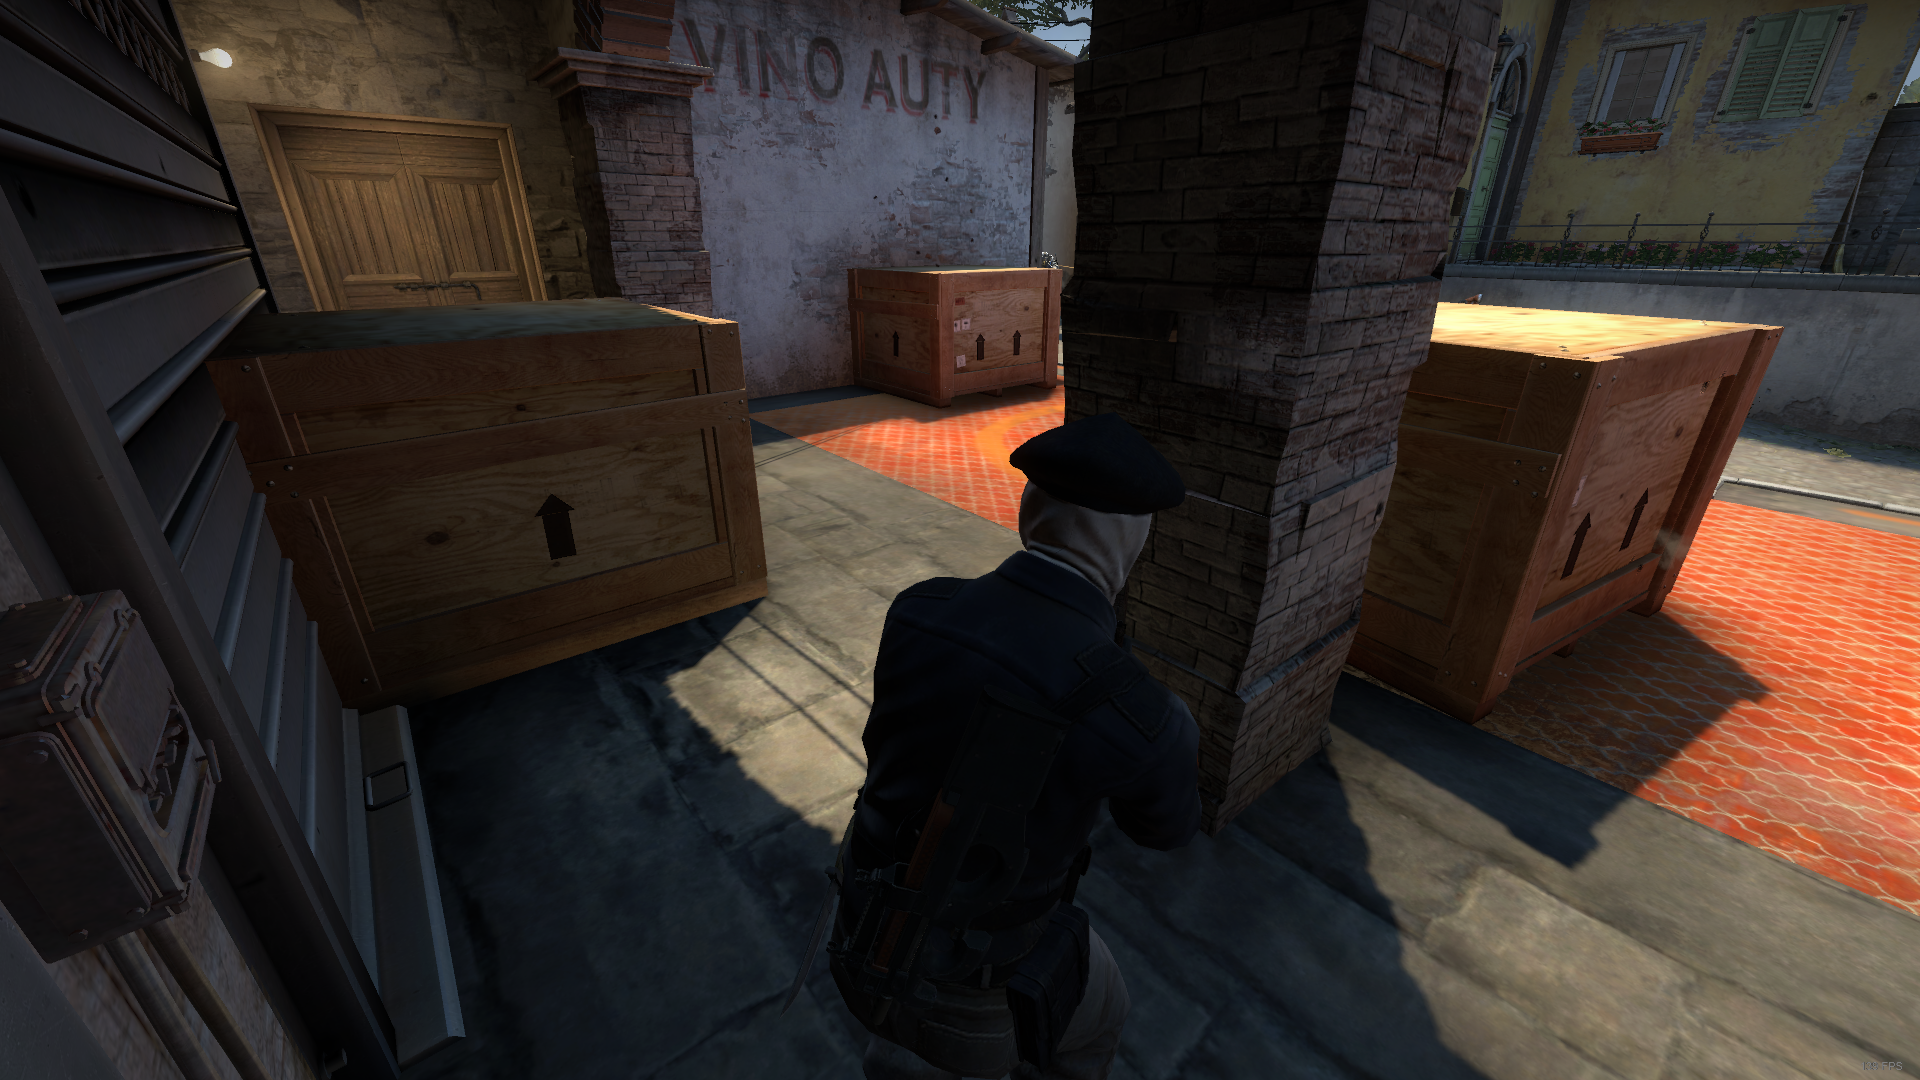t: (787, 407, 1230, 1080)
